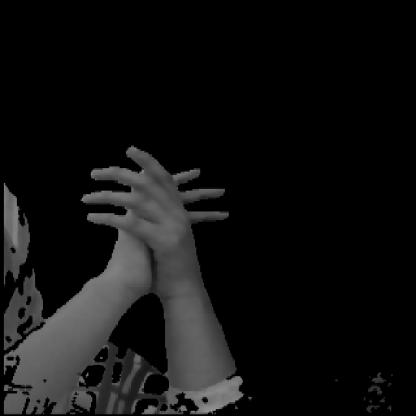clap: (61, 134, 246, 334)
